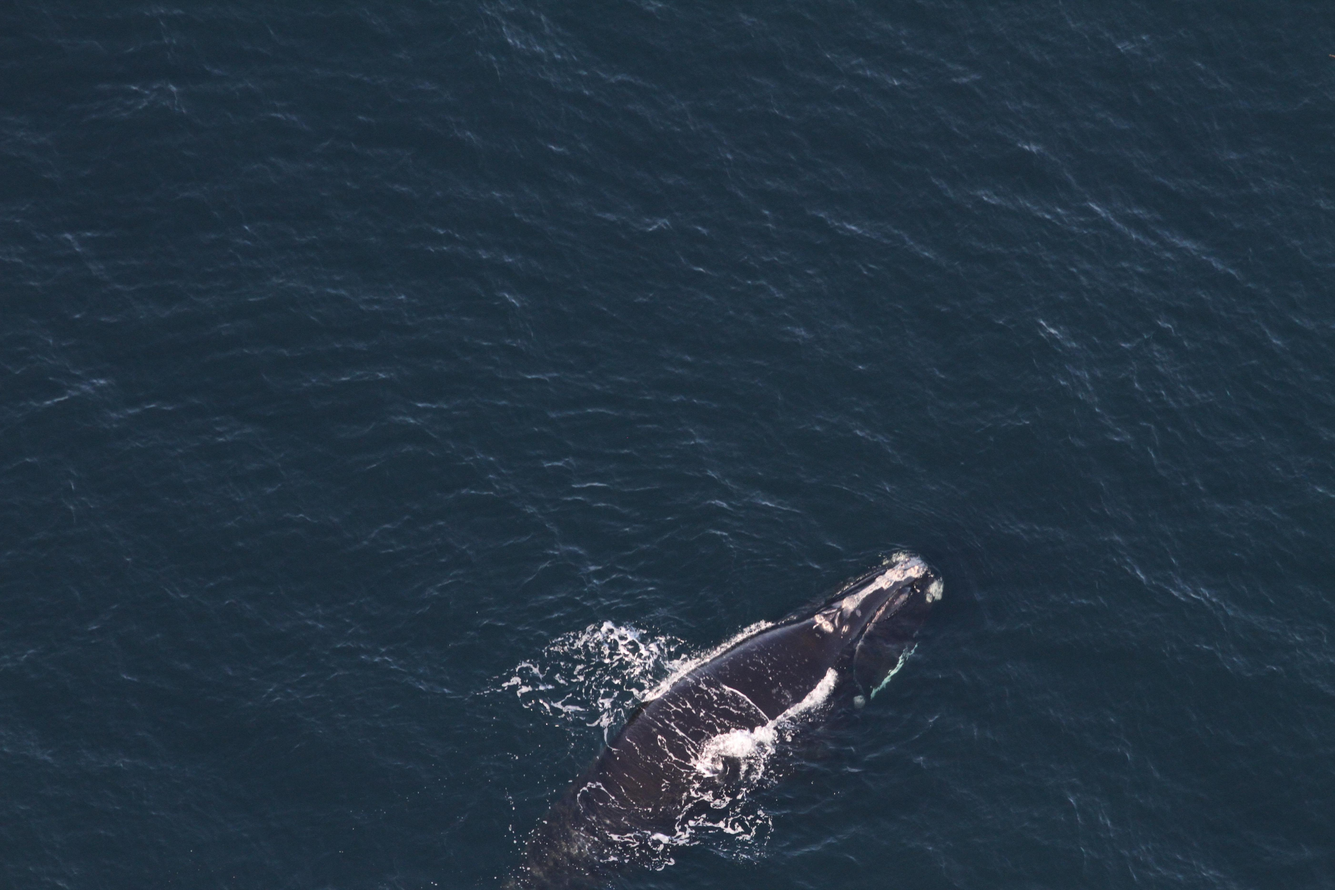whale: (504, 546, 954, 890)
